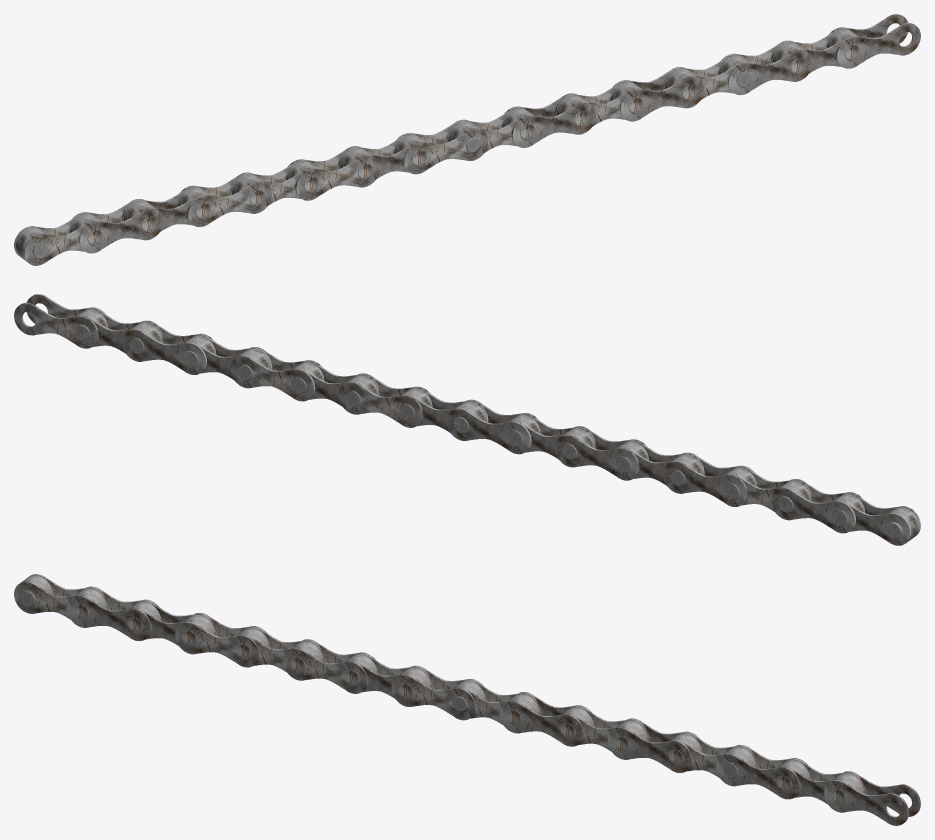
File: Cadena.obj
3 views of the same model, one above another, from view 1: azimuth 30°, elevation 25°; view 2: azimuth 150°, elevation 25°; view 3: azimuth 330°, elevation 25° (orthographic).
Parts seen in each view (by area): view 1: polySurface32_polySurface68; view 2: polySurface32_polySurface68; view 3: polySurface32_polySurface68.
Boxes of the visible parts, x1,y1,x2,y2 form: polySurface32_polySurface68: (14, 14, 920, 265); polySurface32_polySurface68: (14, 294, 920, 545); polySurface32_polySurface68: (14, 574, 920, 825).
Size of the model in its own units: 16.74 by 0.5559 by 0.4621.
1 material, 1 textured.
